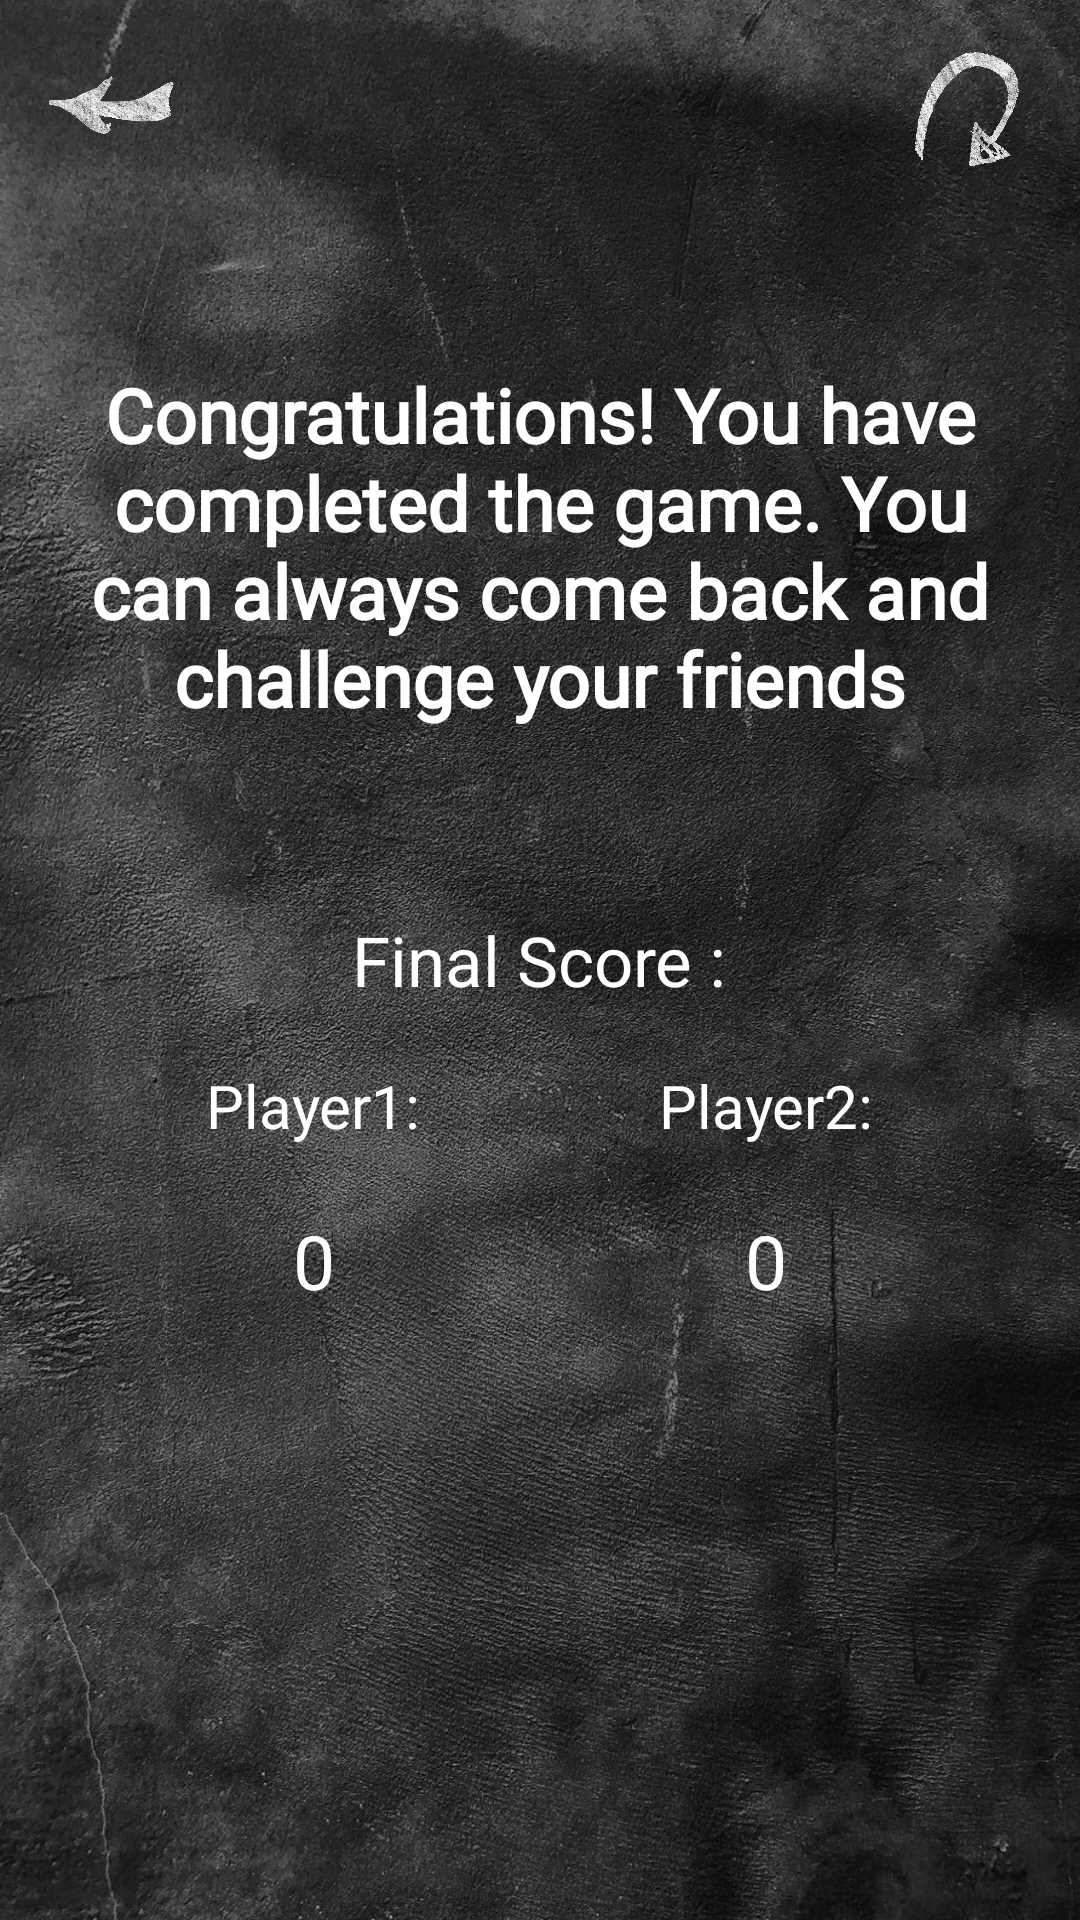

Where to tap for icons on this 1080×1920 app screen, as [x,y]:
restart: [968,112]
